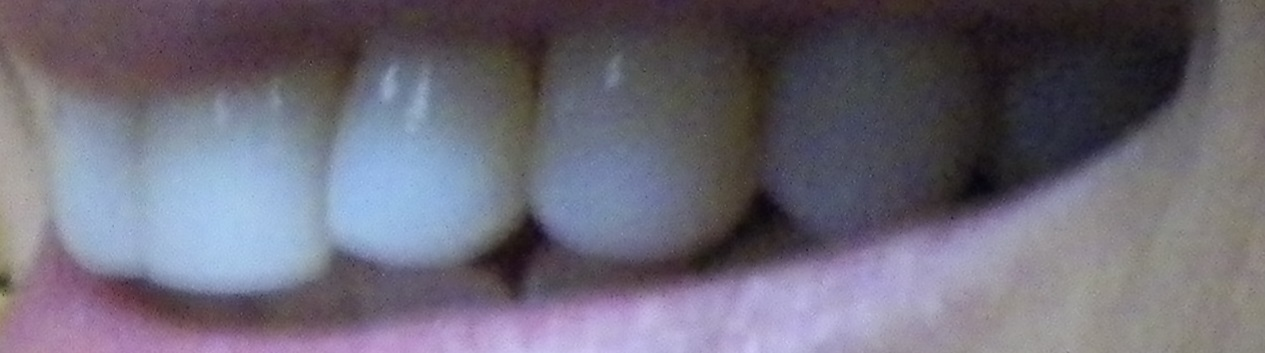boca: (14, 38, 1184, 305)
